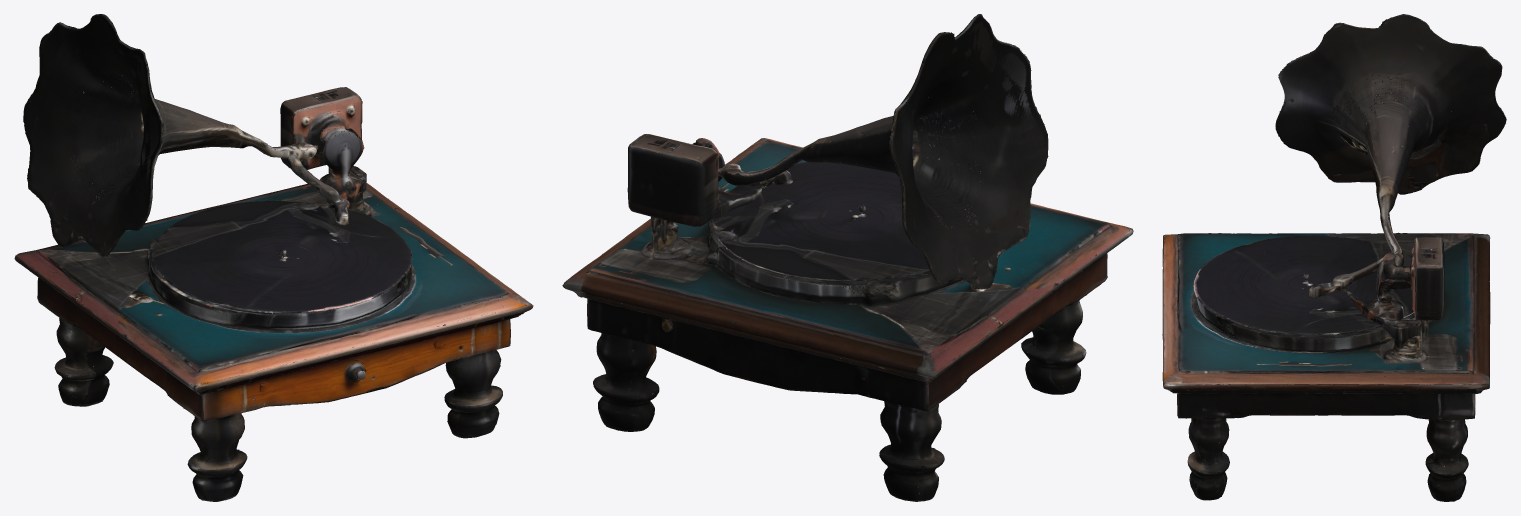
File: plattenspieler.glb
3 renders of one model, left to right at view 1: azimuth 30°, elevation 25°; view 2: azimuth 150°, elevation 25°; view 3: azimuth 270°, elevation 25°, orthographic. The views are drawn at different scales.
Visible parts, largest first — view 1: Mesh_0; view 2: Mesh_0; view 3: Mesh_0.
Part boxes in pixels (box(x1,y1,x2,y2)): Mesh_0: box(14, 14, 533, 501); Mesh_0: box(562, 14, 1133, 501); Mesh_0: box(1162, 14, 1506, 501).
Bounding box in the file's own units: 1.78 × 2 × 1.71.
1 material, 1 textured.
